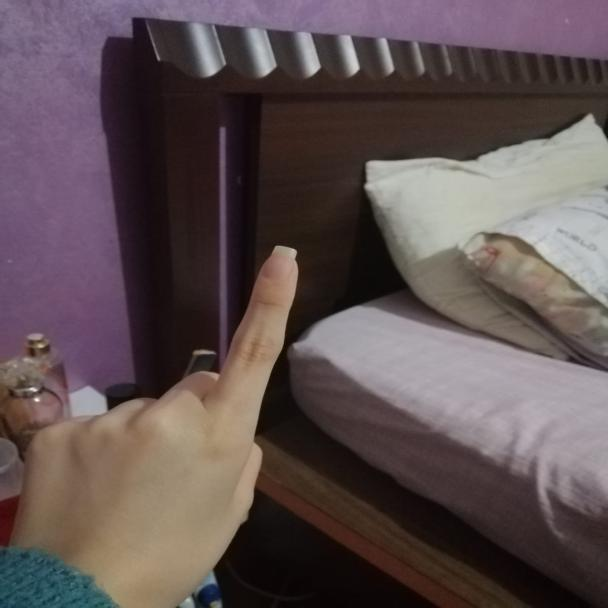one: (26, 250, 311, 580)
